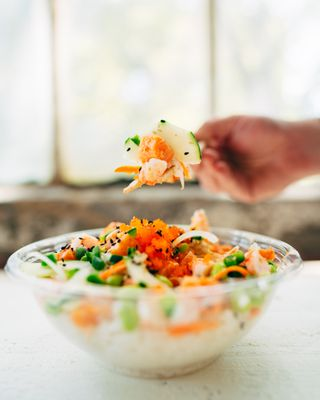sandwich: (0, 213, 305, 380)
